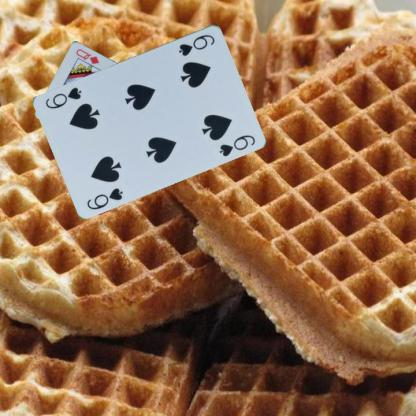6s: (176, 31, 216, 57), (84, 185, 124, 211)
